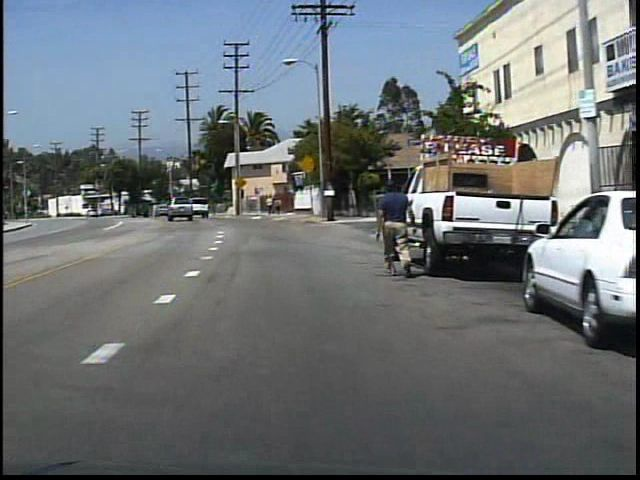person: (370, 174, 418, 281), (265, 194, 275, 218), (274, 197, 284, 217)
